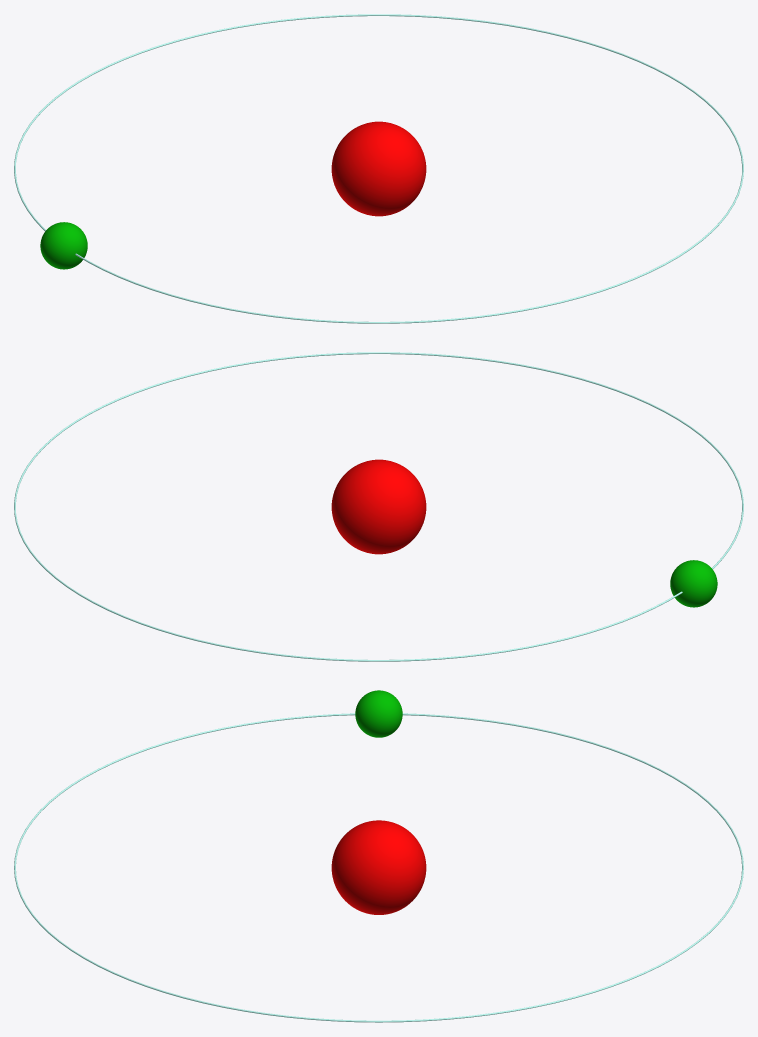
Rendered from asset.glb.
3 views of the same model, one above another, from view 1: azimuth 30°, elevation 25°; view 2: azimuth 150°, elevation 25°; view 3: azimuth 270°, elevation 25° (orthographic).
Visible parts, largest first — view 1: Esfera, Toroide, Esfera_1; view 2: Esfera, Toroide, Esfera_1; view 3: Esfera, Toroide, Esfera_1.
Part boxes in pixels (x1,y1,x2,y2): Esfera: [331, 121, 426, 216]; Toroide: [14, 14, 743, 323]; Esfera_1: [40, 222, 87, 269]; Esfera: [331, 459, 426, 554]; Toroide: [14, 352, 743, 661]; Esfera_1: [670, 560, 717, 607]; Esfera: [331, 820, 426, 914]; Toroide: [14, 713, 743, 1022]; Esfera_1: [355, 690, 402, 737].
Size of the model in its own units: 1589 by 200 by 1542.
